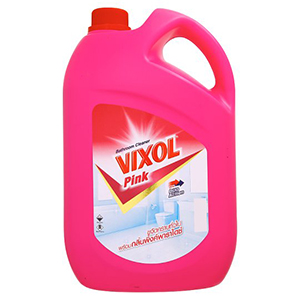Cleaning_solution: (59, 4, 242, 295)
